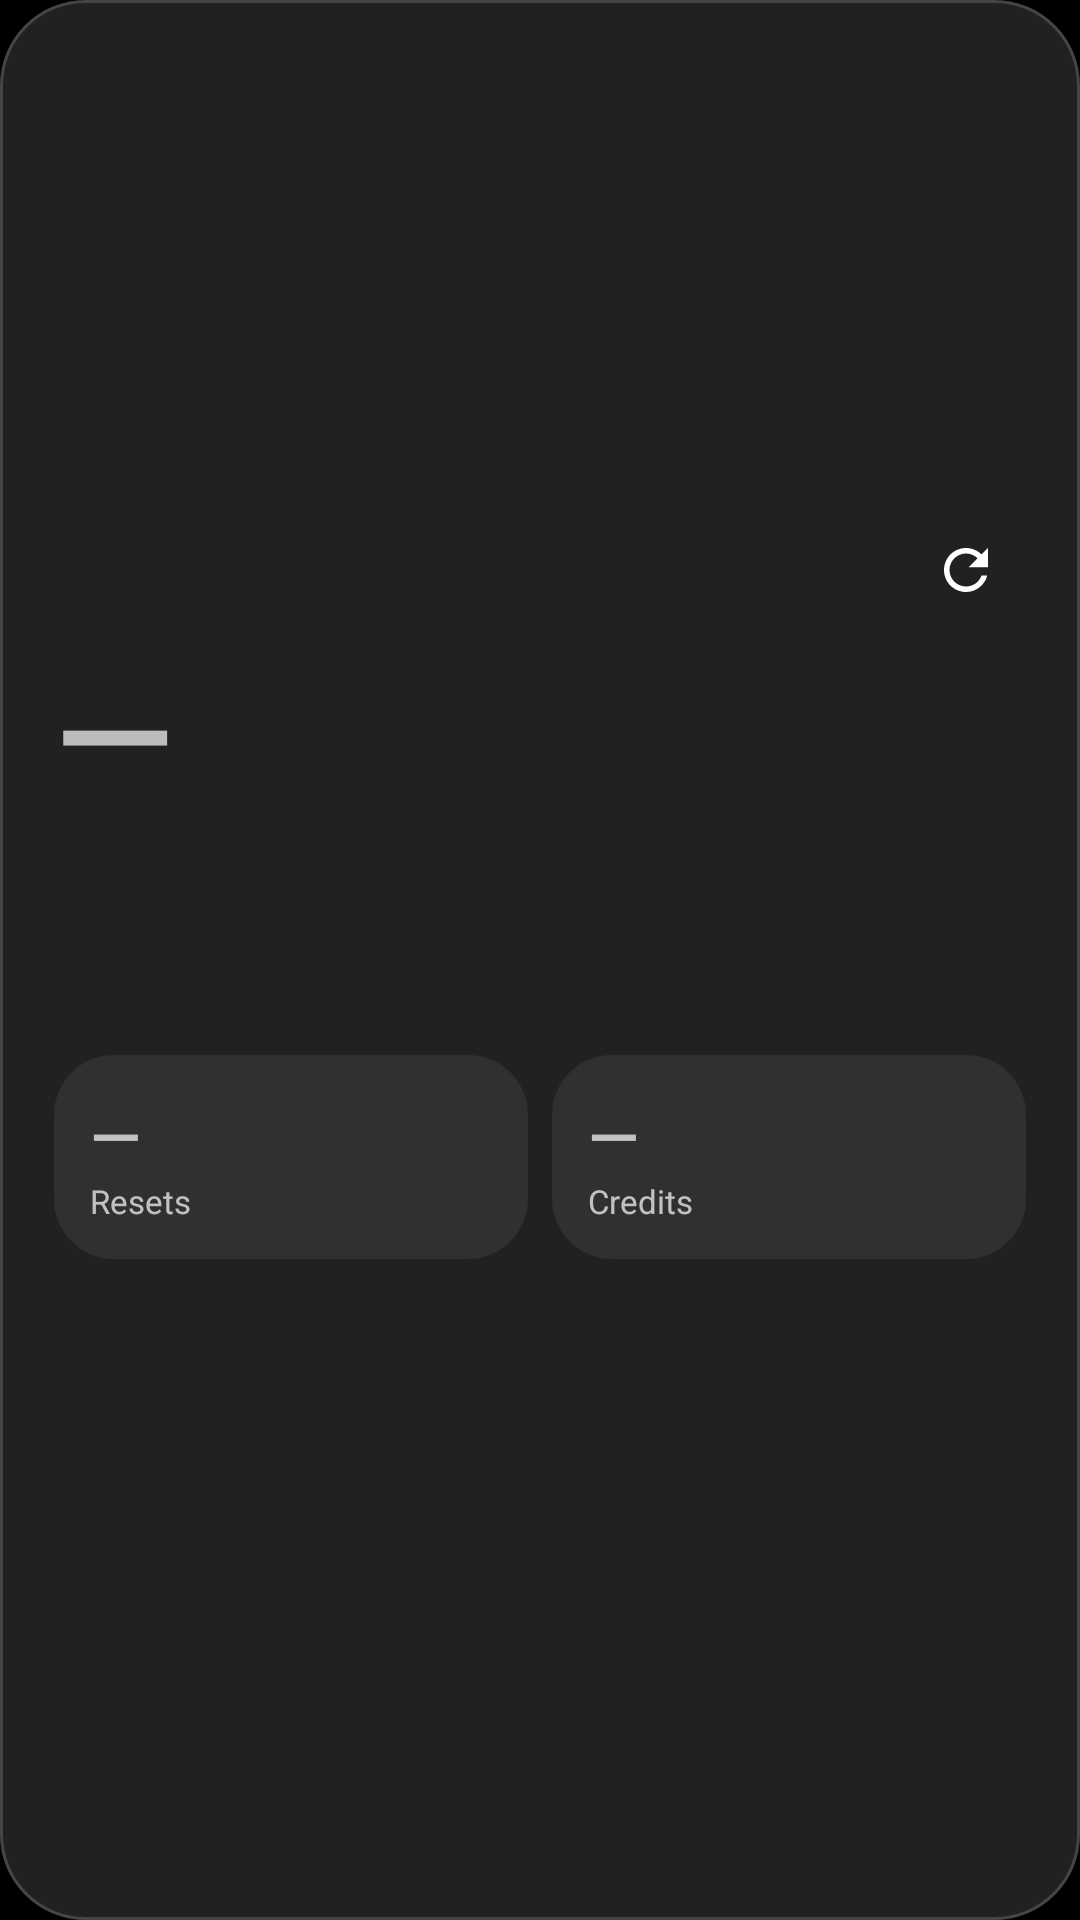

Screen size 1080px×1920px. Icon name, then its box in pixels as (x1, y1, x2, y2):
Refresh usage: (944, 548, 988, 592)
